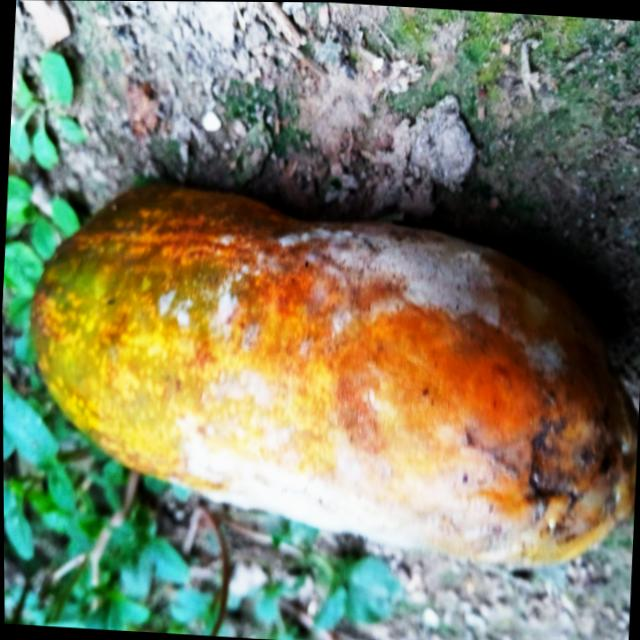Pythium-Fruit-Rot: (141, 212, 576, 560)
